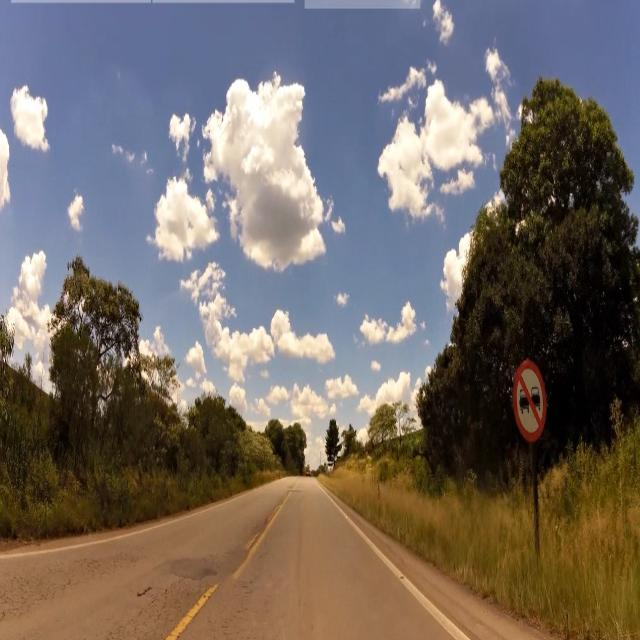R-7: (512, 358, 546, 446)
